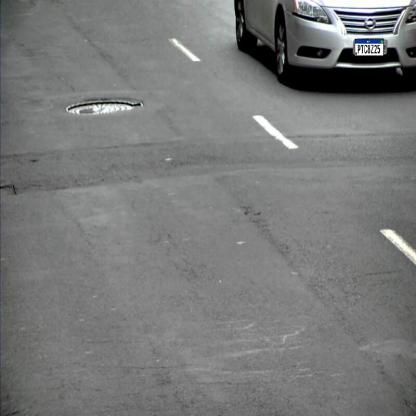PlacaM: (354, 39, 384, 56)
